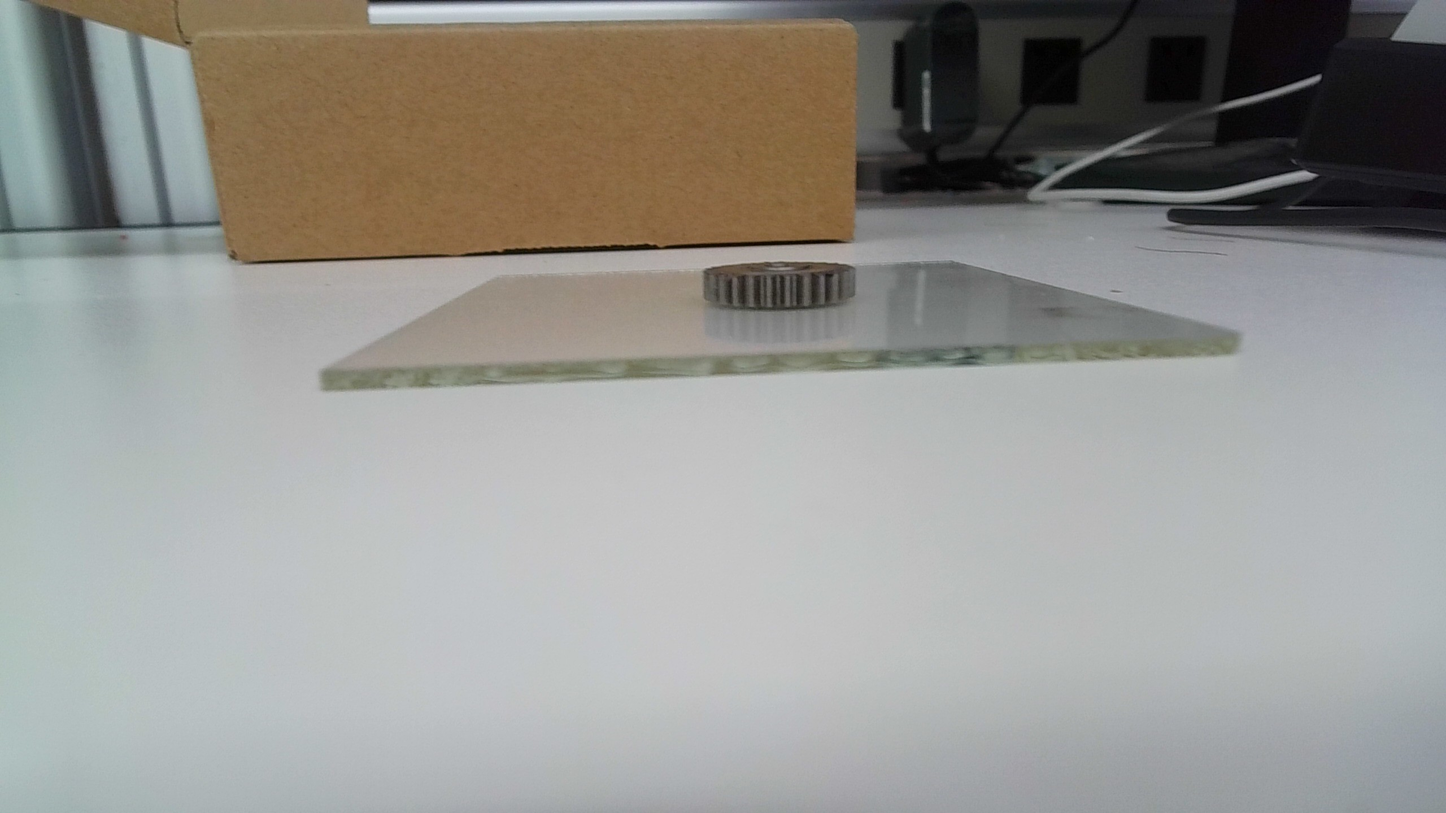gear: (700, 260, 860, 313)
